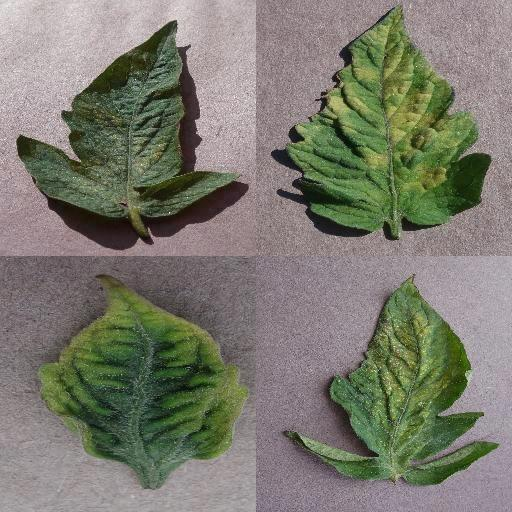Leaf Mold: (287, 4, 493, 232)
Spider Mites: (15, 18, 243, 220), (287, 274, 499, 486)
Yellow Leaf Curl Virus: (39, 274, 251, 468)
